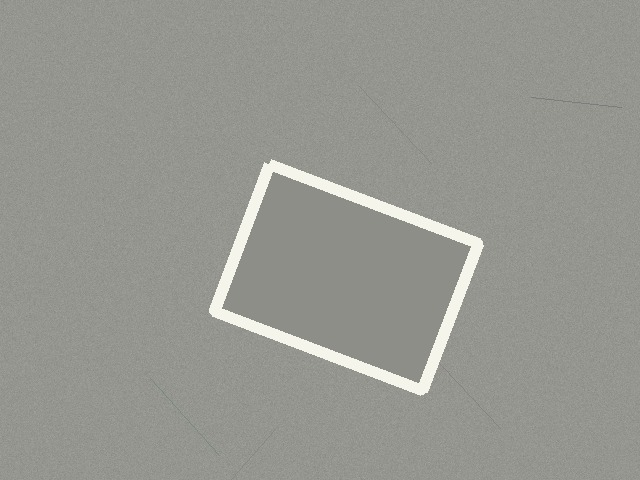parking_area: (214, 164, 478, 390)
